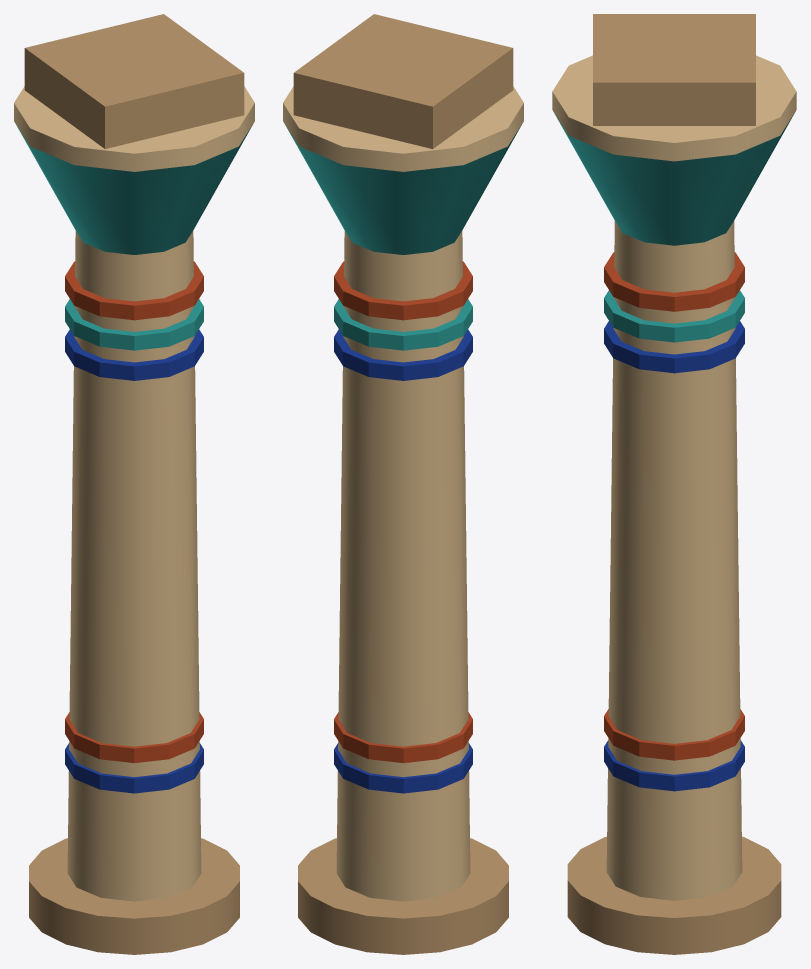
Rendered from eg_column_papyrus.glb.
3 renders of one model, left to right at view 1: azimuth 30°, elevation 25°; view 2: azimuth 150°, elevation 25°; view 3: azimuth 270°, elevation 25°, orthographic.
Visible parts, largest first — view 1: eg_column_papyrus; view 2: eg_column_papyrus; view 3: eg_column_papyrus.
Boxes of the visible parts, left/top/right/bottom form: eg_column_papyrus: left=14, top=14, right=254, bottom=954; eg_column_papyrus: left=283, top=14, right=523, bottom=954; eg_column_papyrus: left=552, top=14, right=796, bottom=954.
Bounding box in the file's own units: 1.8 × 7 × 1.8.
